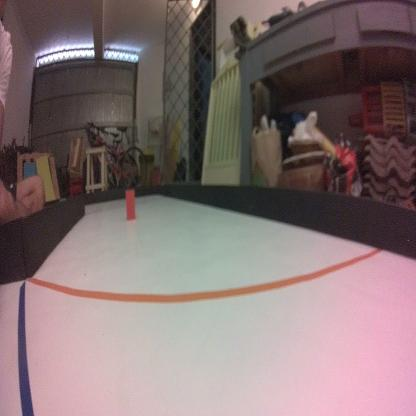red: (126, 187, 136, 220)
